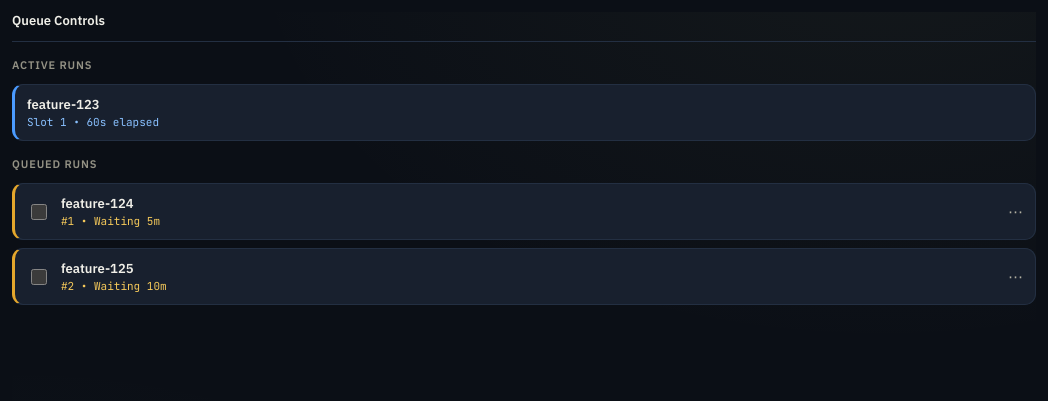
Scenario: QueueAdvancedControls › Run Selection › displays selection count
Click the checkbox named "Select feature-124". click: x=39, y=212
box: [31,204,47,220]
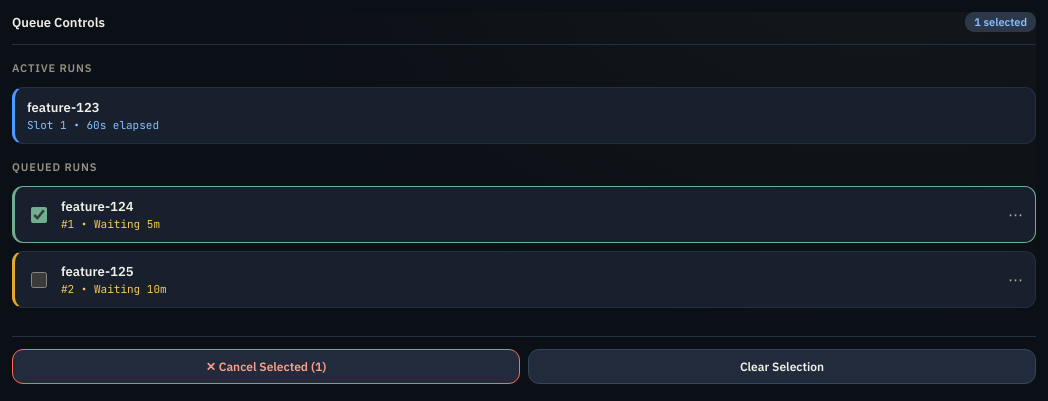
Click the checkbox named "Select feature-125". click: x=39, y=280
box: [31,272,47,288]
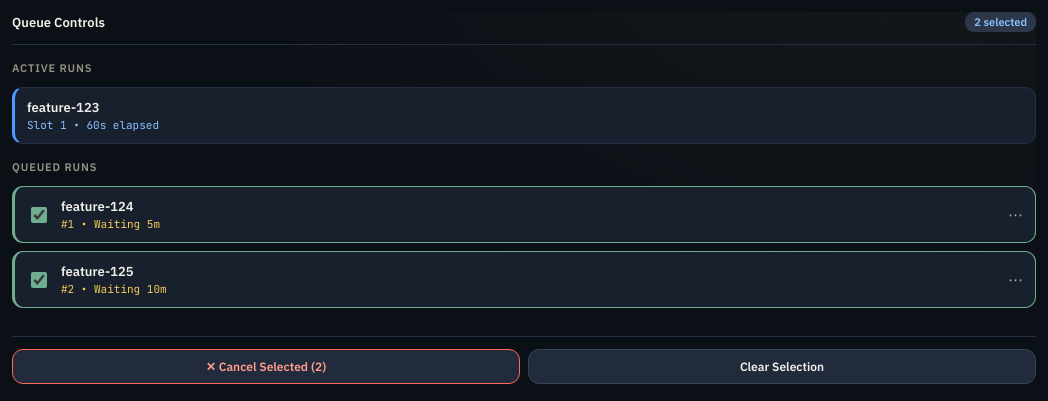
Check: the text "2 selected" is shown, box [965,12,1036,32]
